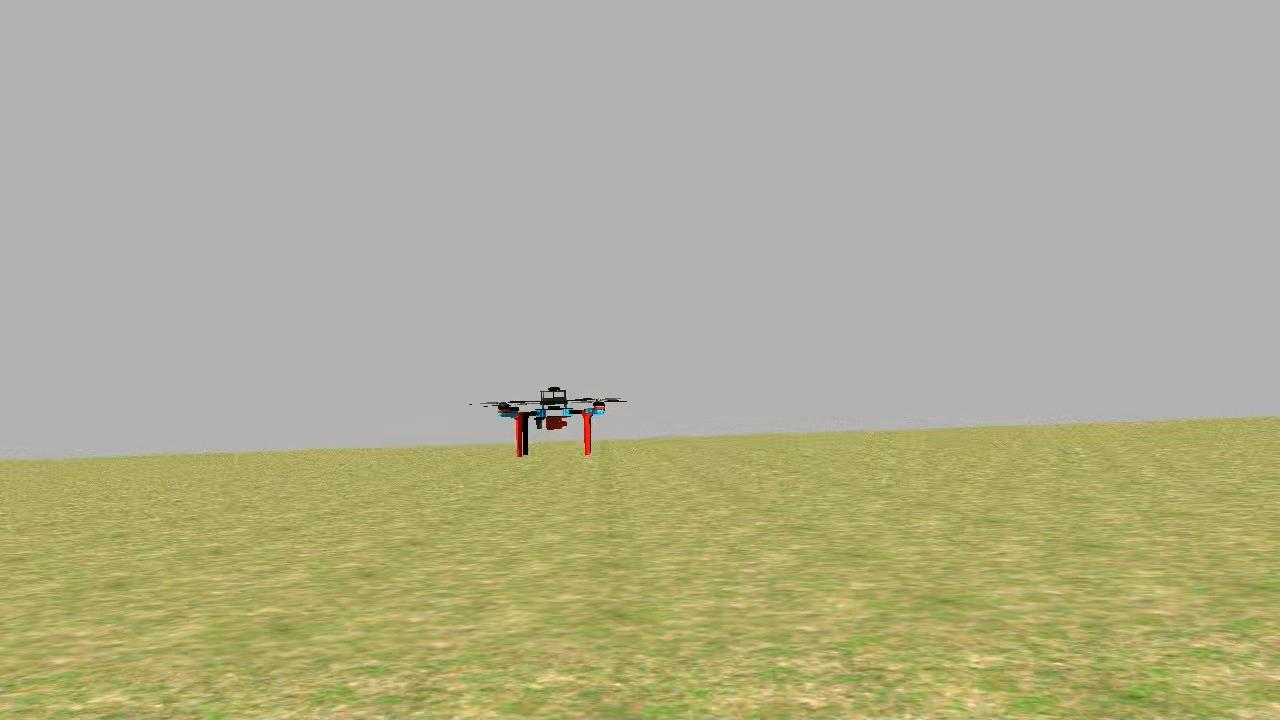UAV: (494, 380, 612, 458)
